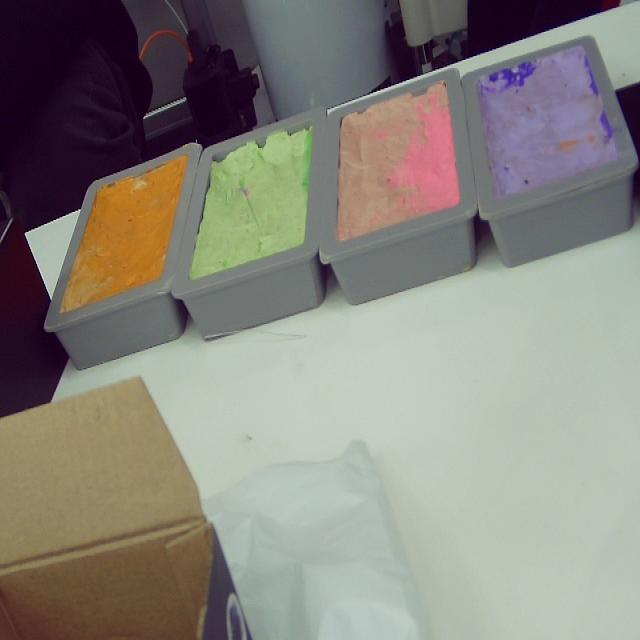block: (464, 33, 640, 268), (167, 109, 332, 341), (320, 67, 480, 304), (39, 144, 203, 371)
